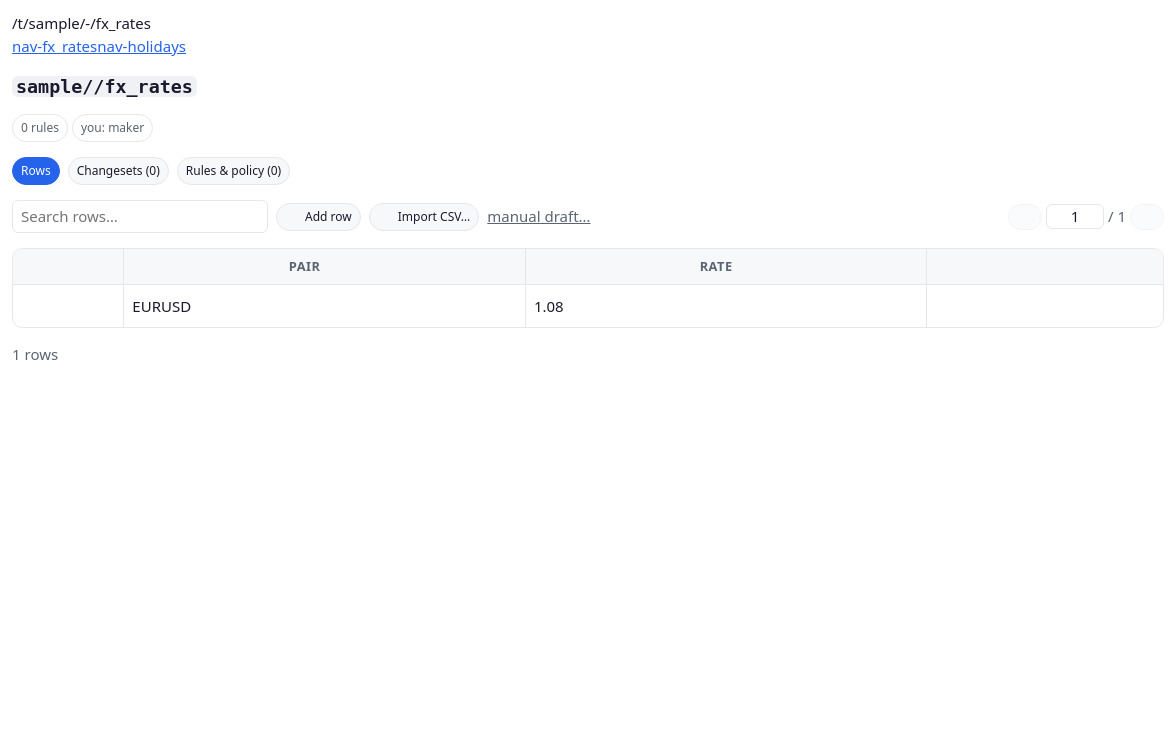
Test case: TableBrowser draft basket scoping › shows the basket bar for a draft on its own table
Click the button "Add row".
click(318, 217)  # box left=276, top=203, right=361, bottom=231
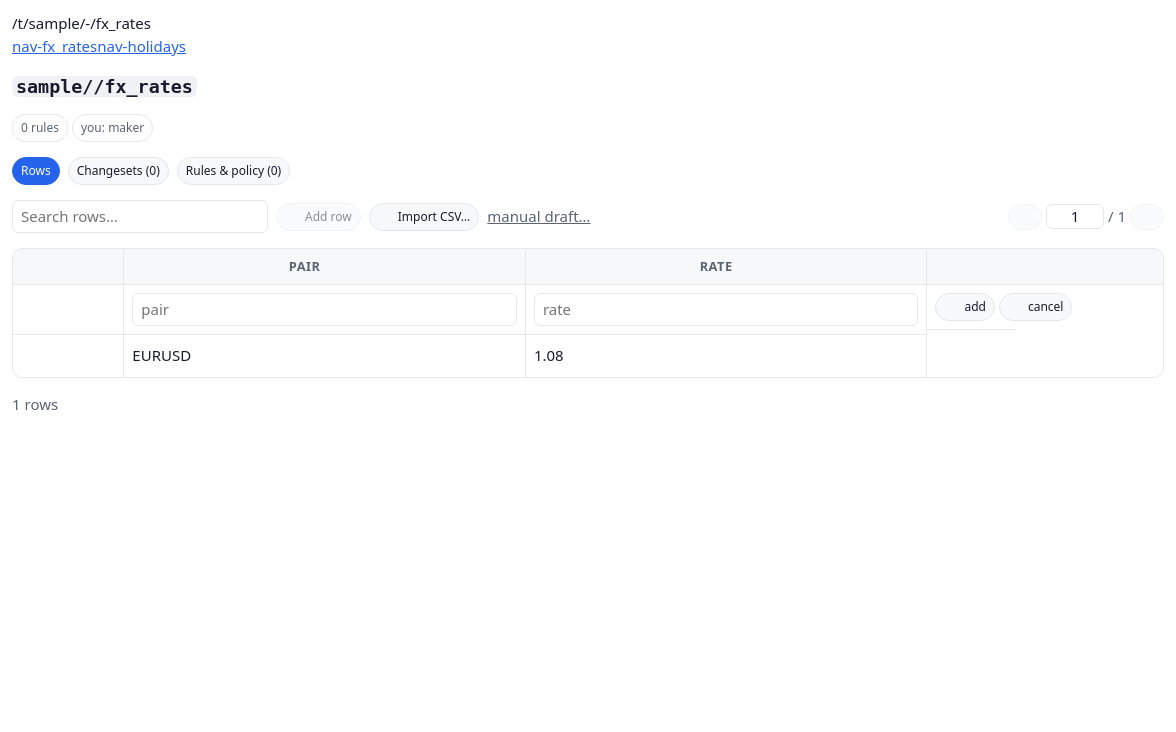
Type "XXXYYY" into the field labelled "pair".
click(325, 309); type("XXXYYY")  # box left=132, top=293, right=517, bottom=326
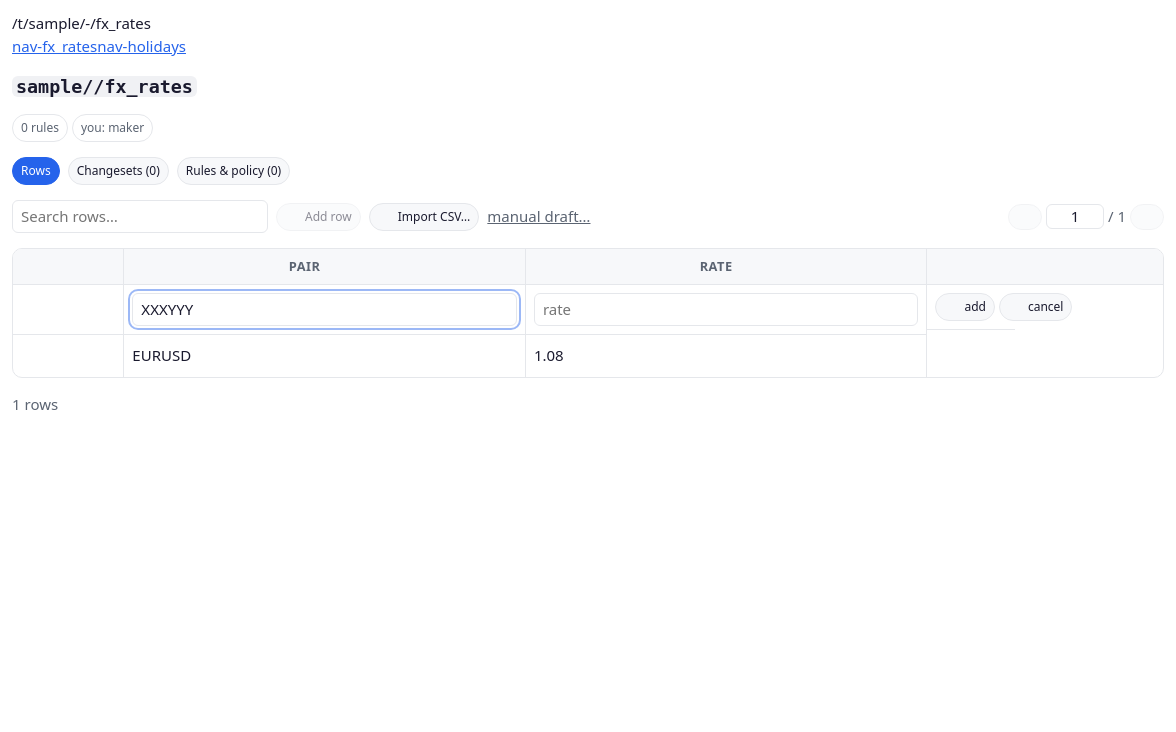
Type "1.5" into the field labelled "rate".
click(726, 309); type("1.5")  # box left=534, top=293, right=918, bottom=326
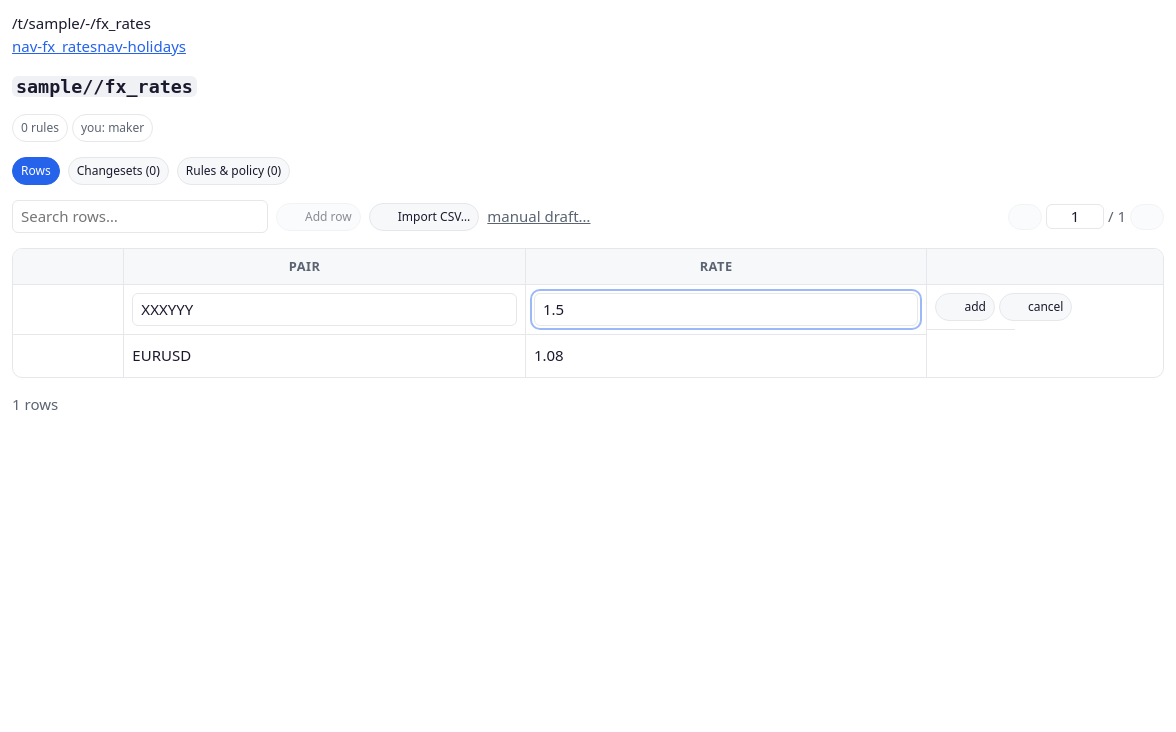
Click the button "add".
click(965, 307)  # box left=935, top=293, right=995, bottom=321
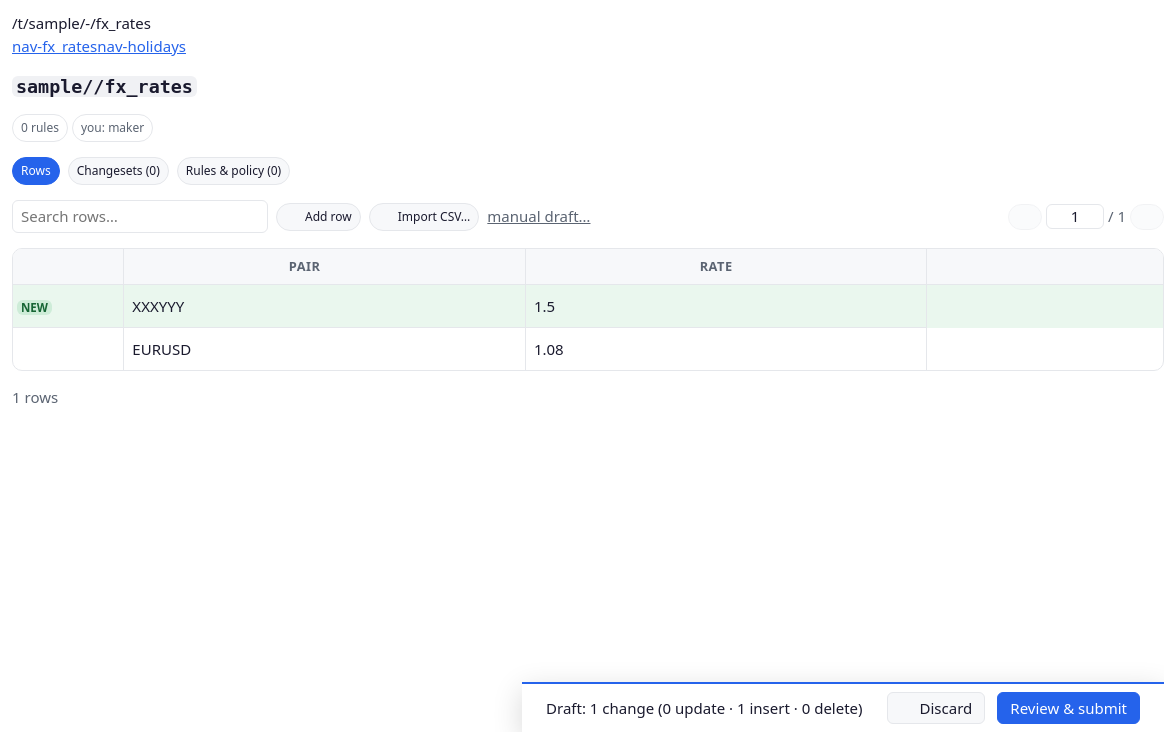
Expected: the text "Draft: 1 change (0 update · 1 insert · 0 delete)" is shown, left=546, top=696, right=863, bottom=719
Expected: the button "Review & submit" is shown, left=997, top=692, right=1140, bottom=724
